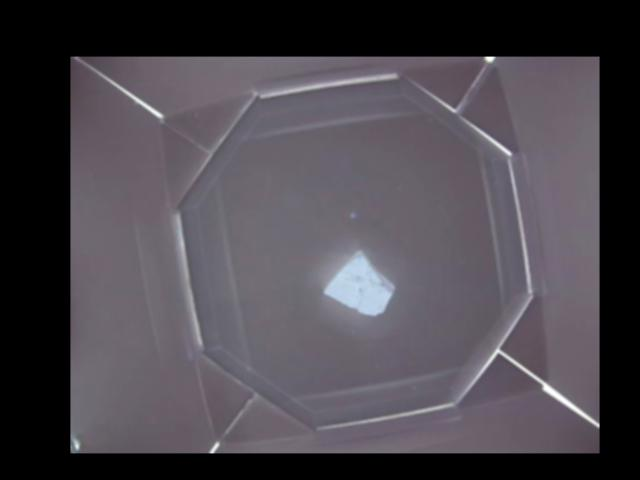China: (323, 250, 393, 316)
